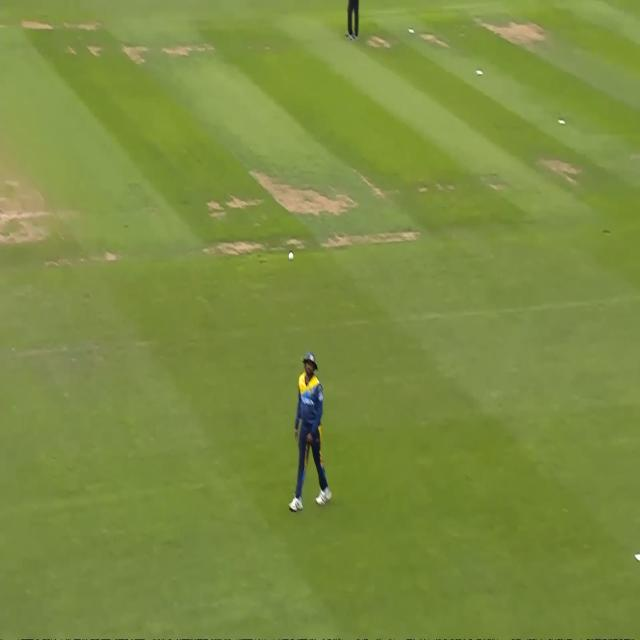ball: (285, 244, 299, 266)
